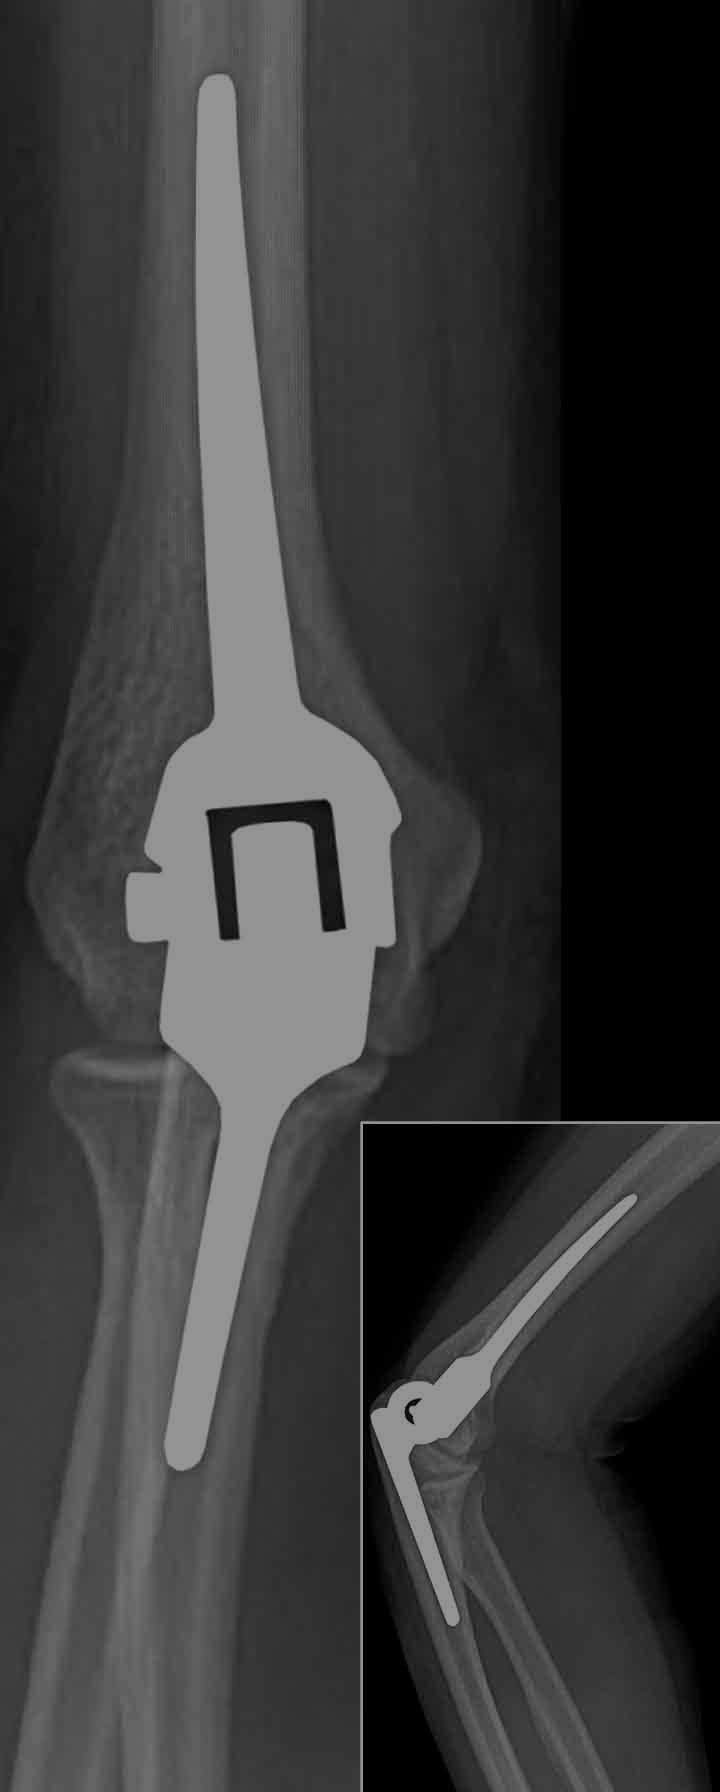Elbow - Osteonics - Stryker: (77, 57, 408, 1293), (370, 1191, 643, 1659)
